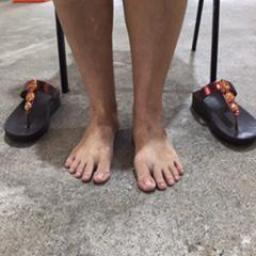Front View -Both Feet-: (61, 67, 194, 209)
